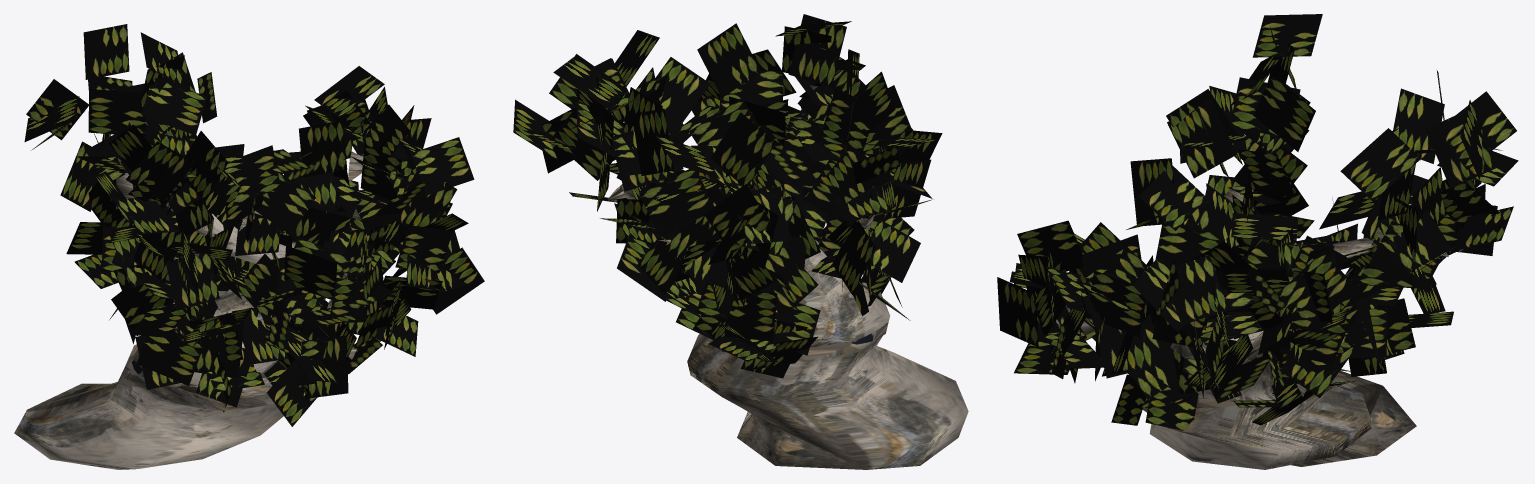
File: tree-tall-06-lod1.glb
3 renders of one model, left to right at view 1: azimuth 30°, elevation 25°; view 2: azimuth 150°, elevation 25°; view 3: azimuth 270°, elevation 25°, orthographic. The views are drawn at different scales.
Parts seen in each view (by area): view 1: tree-tall-06_MATERIAL_BATCH; view 2: tree-tall-06_MATERIAL_BATCH; view 3: tree-tall-06_MATERIAL_BATCH.
Part boxes in pixels (box(x1,y1,x2,y2)): tree-tall-06_MATERIAL_BATCH: box(14, 24, 484, 469); tree-tall-06_MATERIAL_BATCH: box(513, 14, 968, 469); tree-tall-06_MATERIAL_BATCH: box(997, 14, 1518, 469).
Size of the model in its own units: 14.32 by 13 by 14.65.
3 materials, 3 textured.
